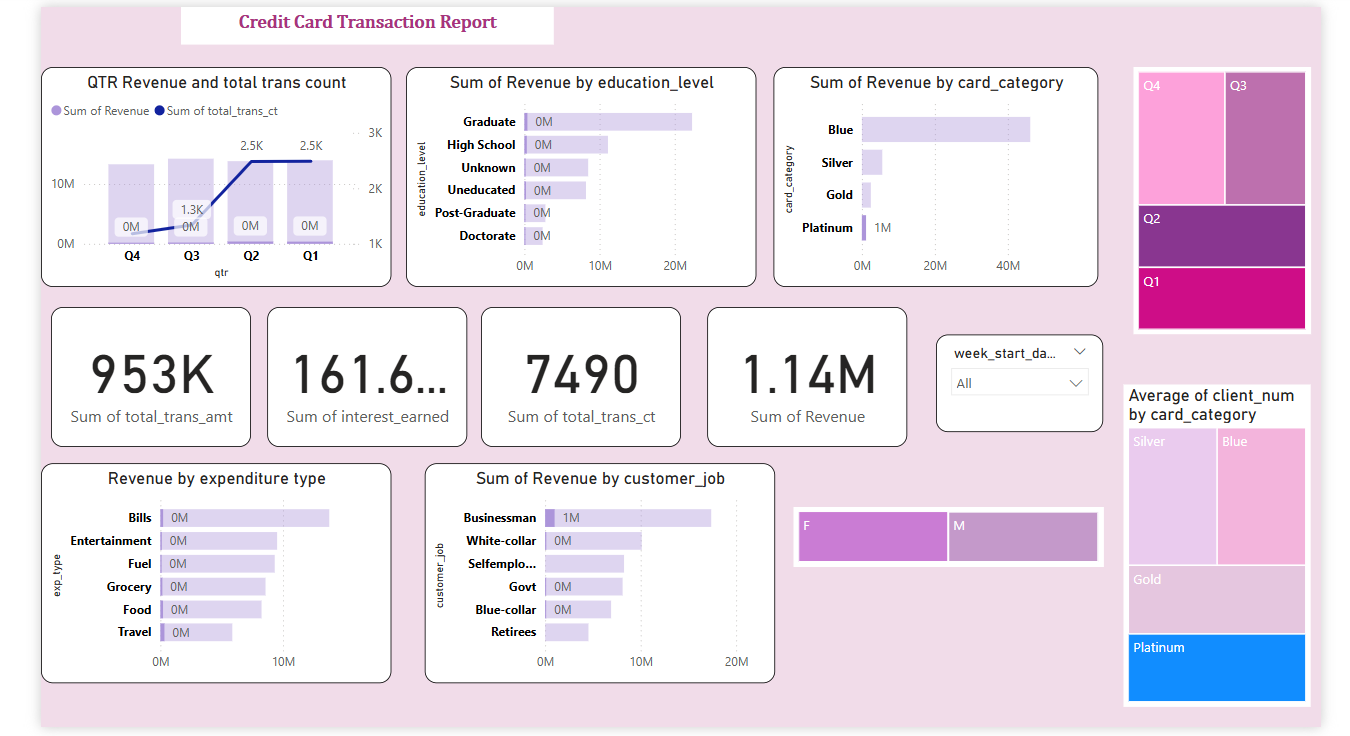

What the dashboard file says about the page in this screenshot:
{"tool":"powerbi","page":{"name":"Page 2","canvas":[1280,720],"ordinal":1},"visuals":[{"type":"textbox","box":[140,0,372.5,37.5],"z":0},{"type":"lineStackedColumnComboChart","title":"QTR Revenue and total trans count","fields":{"Category":["public cc_detail.qtr"],"Y":["Sum(public cc_detail.Revenue)"],"Y2":["Sum(public cc_detail.total_trans_ct)"]},"box":[0,60,350,220],"z":1000},{"type":"barChart","title":"Revenue by expenditure type","fields":{"Y":["Sum(public cc_detail.Revenue)"],"Category":["public cc_detail.exp_type"]},"box":[0,456.7,350,220],"z":2000},{"type":"barChart","fields":{"Category":["public cust_detail.education_level"],"Y":["Sum(public cc_detail.Revenue)"]},"box":[365,60,350,220],"z":3000},{"type":"barChart","fields":{"Category":["public cust_detail.customer_job"],"Y":["Sum(public cc_detail.Revenue)"]},"box":[383.3,456.7,350,220],"z":4000},{"type":"barChart","fields":{"Y":["Sum(public cc_detail.Revenue)"],"Category":["public cc_detail.card_category"]},"box":[732.5,60,325,220],"z":5000},{"type":"card","fields":{"Values":["Sum(public cc_detail.Revenue)"]},"box":[666.7,300,200,140],"z":6000},{"type":"card","fields":{"Values":["Sum(public cc_detail.total_trans_ct)"]},"box":[440,300,200,140],"z":7000},{"type":"card","fields":{"Values":["Sum(public cc_detail.total_trans_amt)"]},"box":[10,300,200,140],"z":8000},{"type":"card","fields":{"Values":["Sum(public cc_detail.interest_earned)"]},"box":[226.7,300,200,140],"z":9000},{"type":"slicer","fields":{"Values":["public cc_detail.week_start_date"]},"box":[895,327.5,167.5,97.5],"z":10000},{"type":"treemap","fields":{"Group":["public cc_detail.qtr"],"Values":["Avg(public cc_detail.client_num)"]},"box":[1092.5,60,177.5,267.5],"z":11000},{"type":"treemap","fields":{"Values":["Avg(public cc_detail.client_num)"],"Group":["public cust_detail.gender"]},"box":[752.5,500,310,60],"z":11001},{"type":"treemap","fields":{"Values":["Avg(public cust_detail.client_num)"],"Group":["public cc_detail.card_category"]},"box":[1082.5,377.5,187.5,322.5],"z":11002}]}

Visuals, with their boxes on the page's 1280x720 design canvas (x1, y1, x2, y2). These are canvas units, not pixel positions in the 1350x736 screenshot, which may show the page scaled, cropped or inside an application window:
textbox: detection(140, 0, 512, 38)
"QTR Revenue and total trans count" lineStackedColumnComboChart: detection(0, 60, 350, 280)
"Revenue by expenditure type" barChart: detection(0, 457, 350, 677)
barChart - public cust_detail.education_level x Sum(public cc_detail.Revenue): detection(365, 60, 715, 280)
barChart - public cust_detail.customer_job x Sum(public cc_detail.Revenue): detection(383, 457, 733, 677)
barChart - Sum(public cc_detail.Revenue) x public cc_detail.card_category: detection(732, 60, 1058, 280)
card - Sum(public cc_detail.Revenue): detection(667, 300, 867, 440)
card - Sum(public cc_detail.total_trans_ct): detection(440, 300, 640, 440)
card - Sum(public cc_detail.total_trans_amt): detection(10, 300, 210, 440)
card - Sum(public cc_detail.interest_earned): detection(227, 300, 427, 440)
slicer - public cc_detail.week_start_date: detection(895, 328, 1062, 425)
treemap - public cc_detail.qtr x Avg(public cc_detail.client_num): detection(1092, 60, 1270, 328)
treemap - Avg(public cc_detail.client_num) x public cust_detail.gender: detection(752, 500, 1062, 560)
treemap - Avg(public cust_detail.client_num) x public cc_detail.card_category: detection(1082, 378, 1270, 700)
